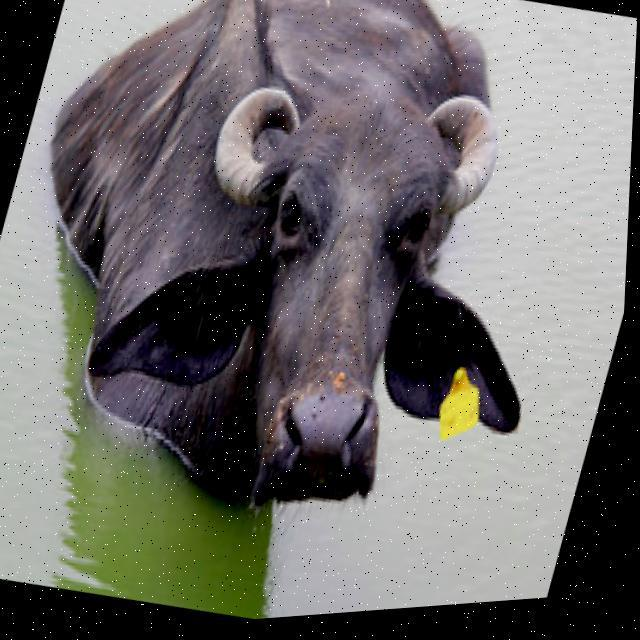Buffalo: (0, 0, 630, 591)
